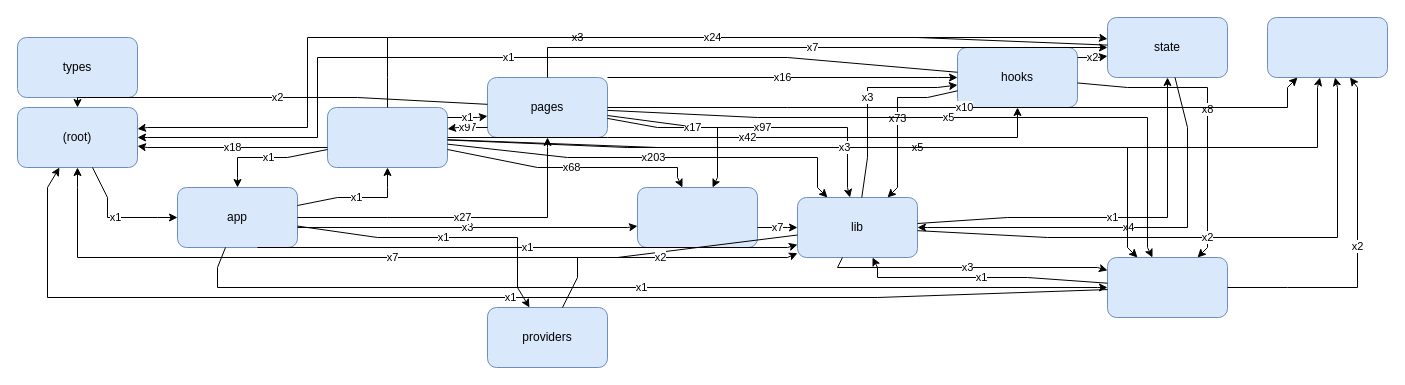
Image size: 1405x385. Some labels were removed from this diagram. Each missing label, with the box of its shape:
components: (326, 106, 448, 168)
data: (1266, 16, 1388, 78)
graphql: (1106, 256, 1228, 318)
ui: (636, 186, 758, 248)
